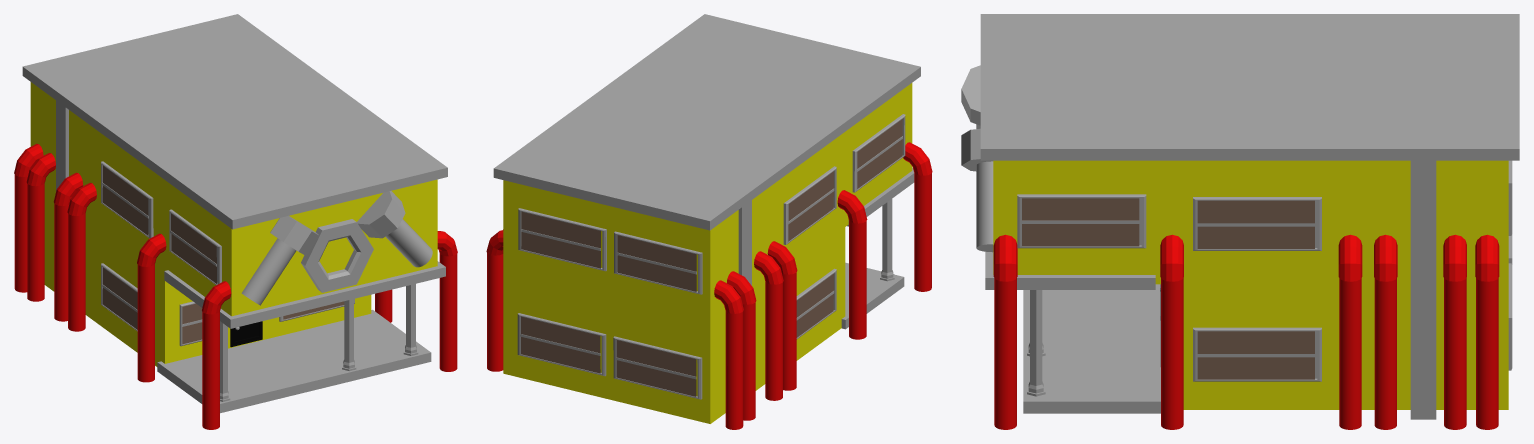
File: IndustryWorkBuilding.fbx
3 renders of one model, left to right at view 1: azimuth 30°, elevation 25°; view 2: azimuth 150°, elevation 25°; view 3: azimuth 270°, elevation 25°, orthographic. The views are drawn at different scales.
Visible parts, largest first — view 1: pCylinder89, pCylinder90 (×8), pTorus1 (×6), pCylinder91, pCylinder92 (×2), pCylinder93 (×2), polySurface680, polySurface681, polySurface679, pCube1, polySurface677, pSphere37; view 2: pCylinder89, pCylinder90 (×7), polySurface689, polySurface690, polySurface688, polySurface687, pTorus1 (×6), polySurface680, polySurface681, polySurface679, pCube1; view 3: pCylinder89, pCylinder90 (×6), polySurface684, polySurface686, pCube2, polySurface685, pTorus1 (×6), pCylinder93 (×2), pCylinder92, polySurface689.
Part boxes in pixels (x1=…): pCylinder89: x1=22, y1=14, x2=447, y2=413; pCylinder90 (×8): x1=14, y1=174, x2=457, y2=429; pTorus1 (×6): x1=14, y1=143, x2=231, y2=314; pCylinder91: x1=301, y1=219, x2=373, y2=292; pCylinder92 (×2): x1=241, y1=219, x2=432, y2=305; pCylinder93 (×2): x1=270, y1=191, x2=405, y2=255; polySurface680: x1=101, y1=161, x2=153, y2=238; polySurface681: x1=169, y1=209, x2=221, y2=285; polySurface679: x1=101, y1=263, x2=137, y2=331; pCube1: x1=56, y1=100, x2=68, y2=191; polySurface677: x1=179, y1=301, x2=202, y2=346; pSphere37: x1=230, y1=321, x2=262, y2=347; pCylinder89: x1=493, y1=14, x2=920, y2=423; pCylinder90 (×7): x1=487, y1=173, x2=931, y2=429; polySurface689: x1=517, y1=313, x2=606, y2=376; polySurface690: x1=613, y1=336, x2=702, y2=399; polySurface688: x1=614, y1=231, x2=702, y2=294; polySurface687: x1=518, y1=208, x2=606, y2=271; pTorus1 (×6): x1=714, y1=142, x2=932, y2=313; polySurface680: x1=783, y1=166, x2=836, y2=244; polySurface681: x1=852, y1=114, x2=905, y2=192; polySurface679: x1=796, y1=268, x2=836, y2=339; pCube1: x1=738, y1=200, x2=751, y2=285; pCylinder89: x1=980, y1=14, x2=1519, y2=413; pCylinder90 (×6): x1=994, y1=278, x2=1498, y2=429; polySurface684: x1=1017, y1=194, x2=1146, y2=248; polySurface686: x1=1193, y1=327, x2=1321, y2=381; pCube2: x1=1410, y1=160, x2=1436, y2=419; polySurface685: x1=1193, y1=197, x2=1321, y2=250; pTorus1 (×6): x1=993, y1=234, x2=1499, y2=281; pCylinder93 (×2): x1=961, y1=65, x2=992, y2=171; pCylinder92: x1=976, y1=161, x2=993, y2=252; polySurface689: x1=1508, y1=263, x2=1512, y2=370.
Size of the model in its own units: 240 by 190 by 356.
